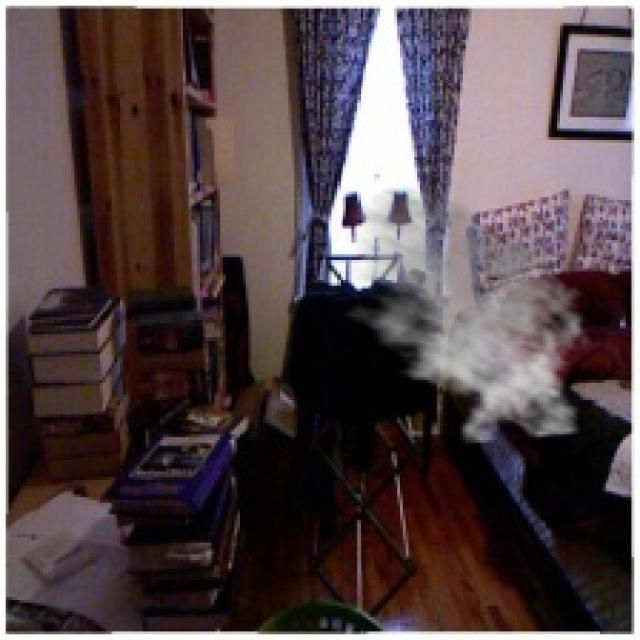Smoke: (332, 186, 594, 446)
